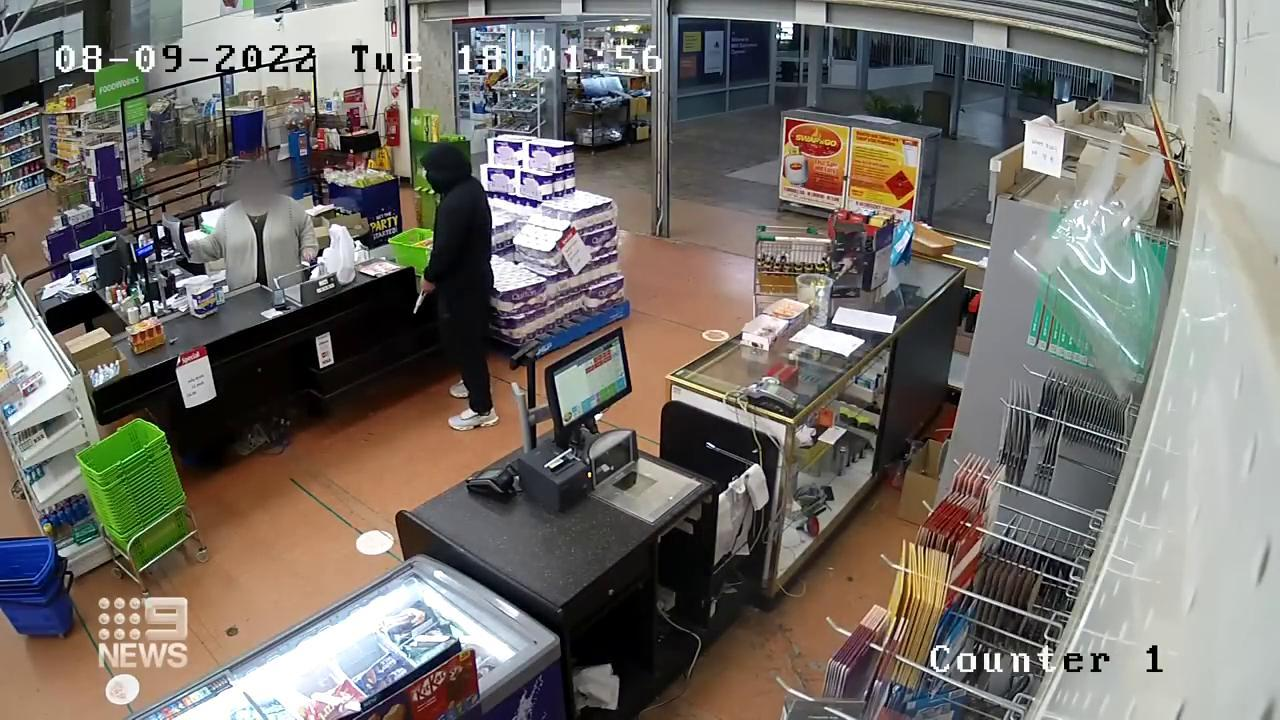gun: (402, 258, 442, 319)
